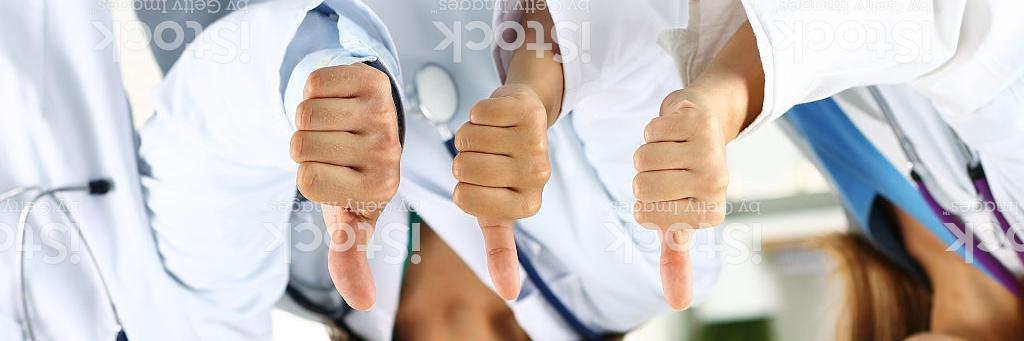thumbsdown: (287, 61, 404, 312), (448, 81, 553, 303), (629, 87, 732, 313)
